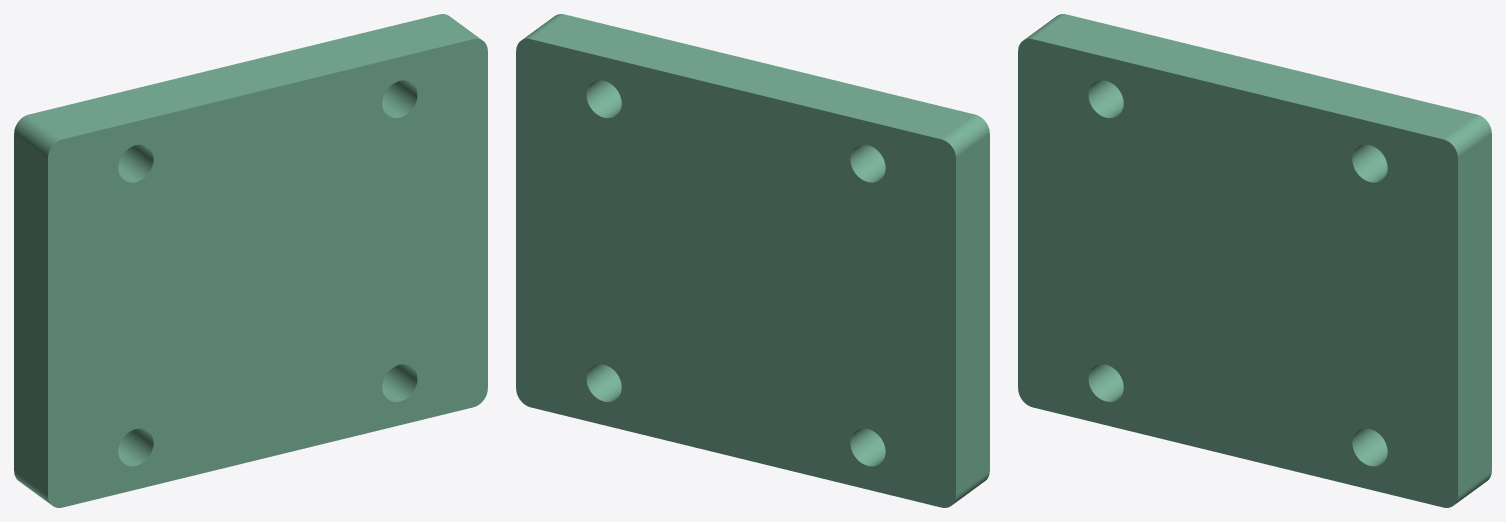
3 renders of one model, left to right at view 1: azimuth 30°, elevation 25°; view 2: azimuth 150°, elevation 25°; view 3: azimuth 330°, elevation 25°, orthographic.
Parts seen in each view (by area): view 1: F13_load_cell_clamp_cap; view 2: F13_load_cell_clamp_cap; view 3: F13_load_cell_clamp_cap.
Part boxes in pixels (left/top/right/bottom): F13_load_cell_clamp_cap: left=14, top=14, right=487, bottom=507; F13_load_cell_clamp_cap: left=516, top=14, right=989, bottom=507; F13_load_cell_clamp_cap: left=1018, top=14, right=1491, bottom=507.
Size of the model in its own units: 30 by 24 by 4.
